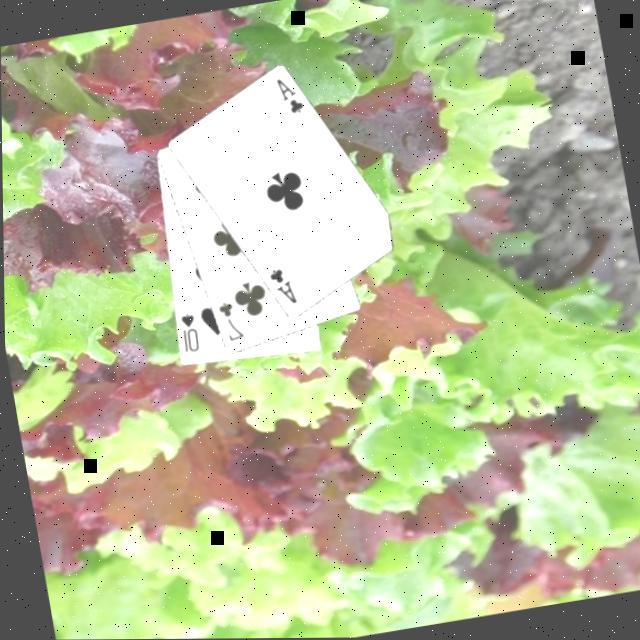10S: (173, 310, 202, 360)
7C: (212, 299, 246, 349)
AC: (262, 265, 300, 313), (271, 74, 307, 122)
